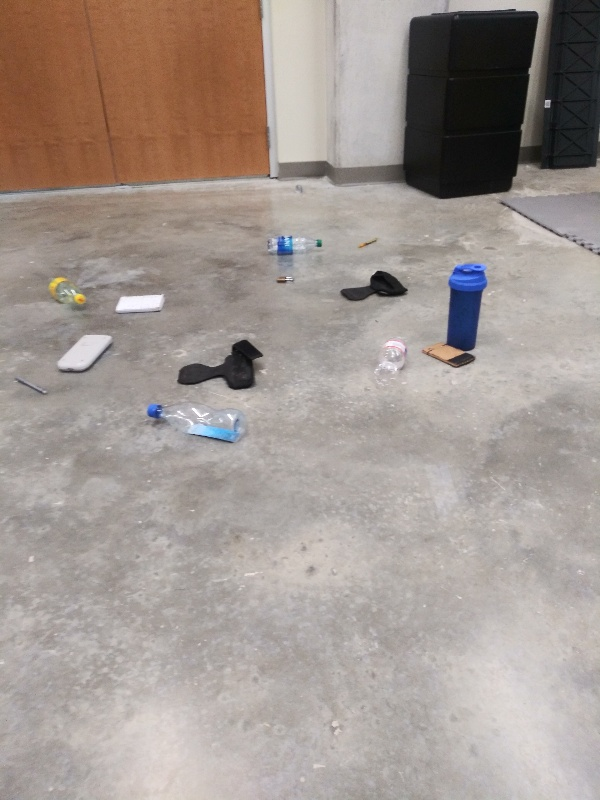bottle: (144, 401, 252, 445), (370, 329, 416, 391), (39, 272, 89, 312), (263, 233, 326, 259)
